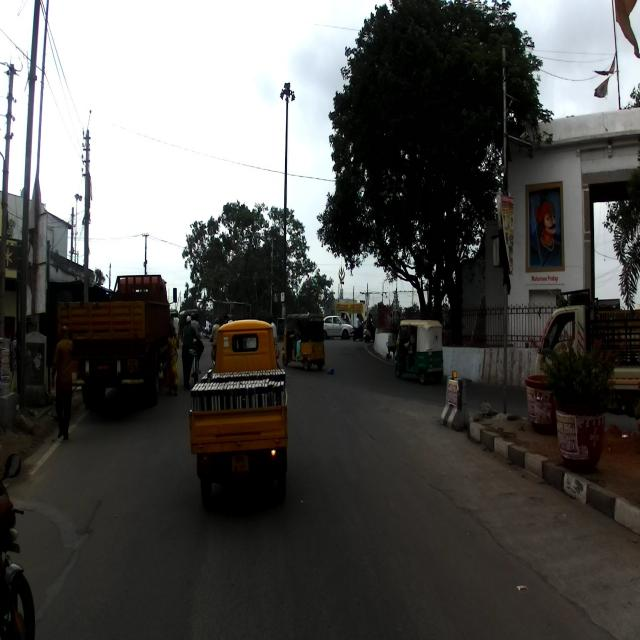autorickshaw: (188, 318, 289, 508), (394, 318, 445, 386)
motorcycle: (0, 448, 36, 638)
truck: (56, 274, 178, 414)
